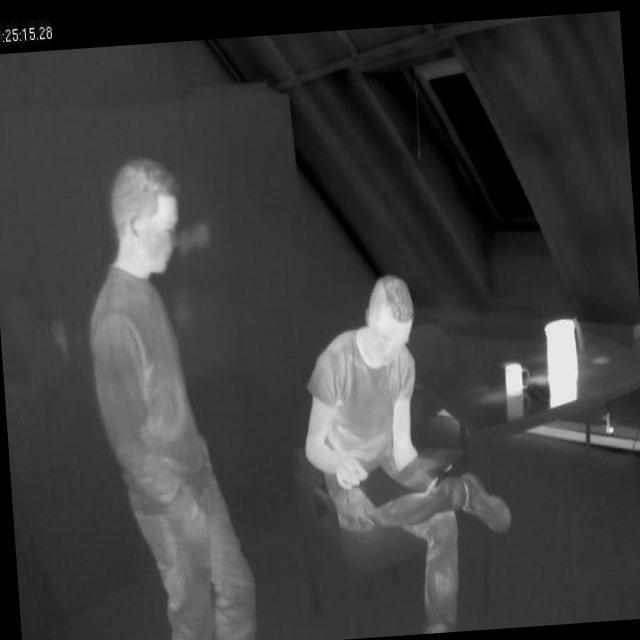person: (76, 150, 260, 640), (288, 258, 523, 640)
